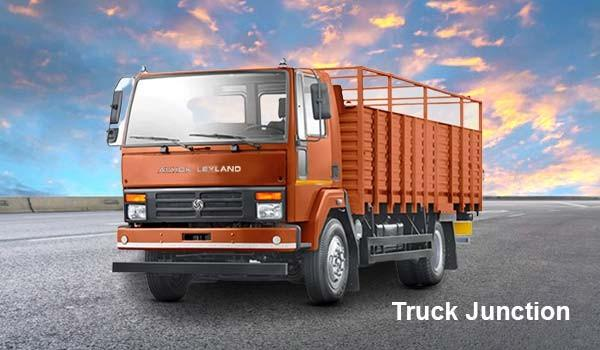truck: (107, 61, 486, 307)
